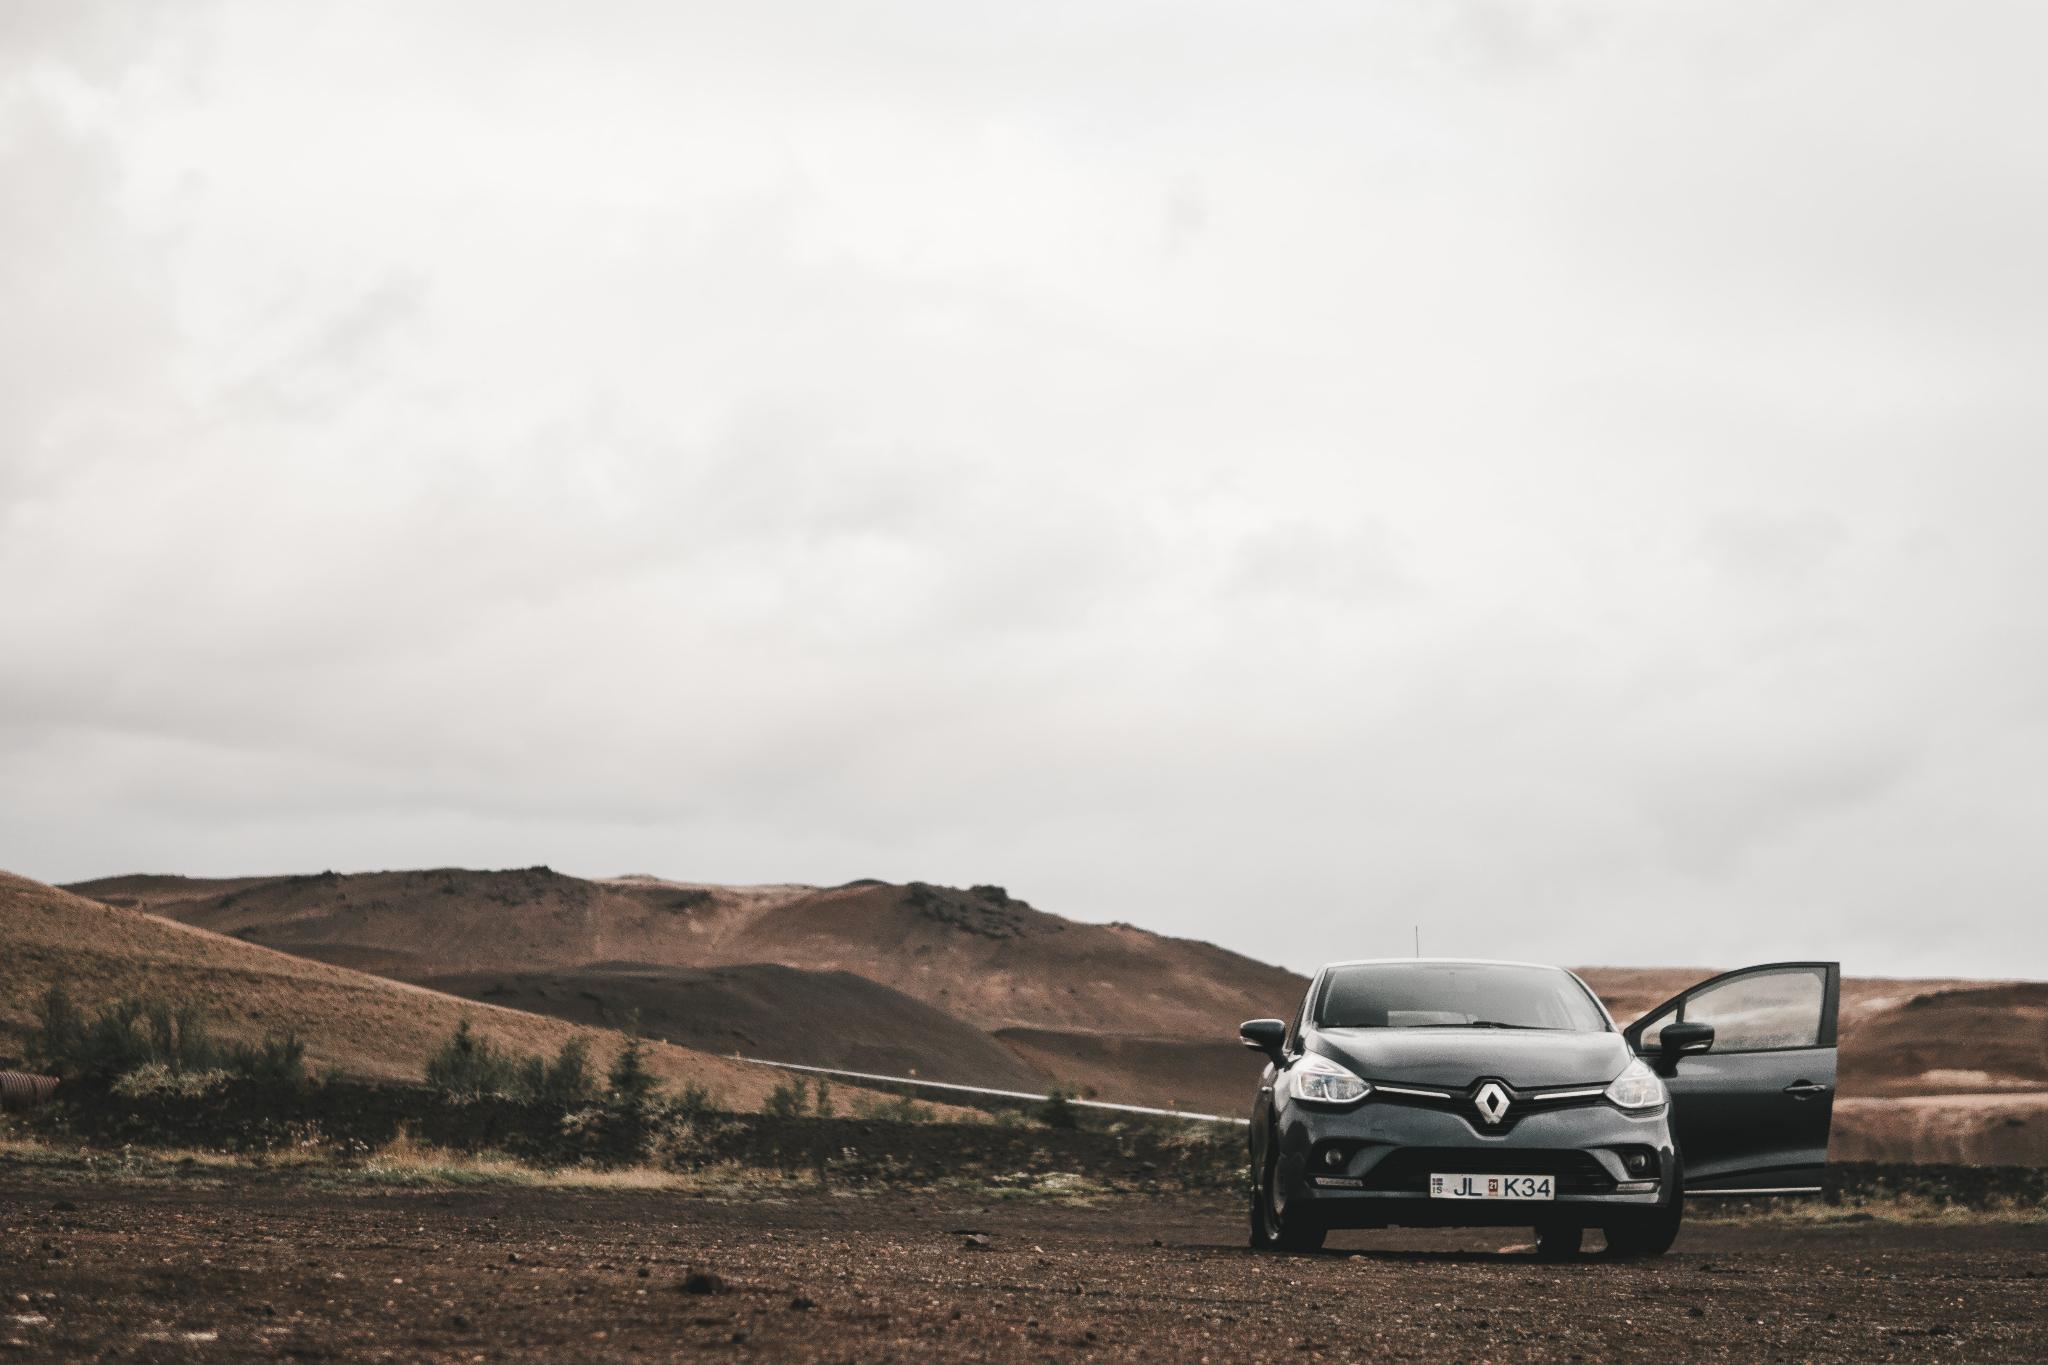Renault: (1460, 1069, 1532, 1149)
